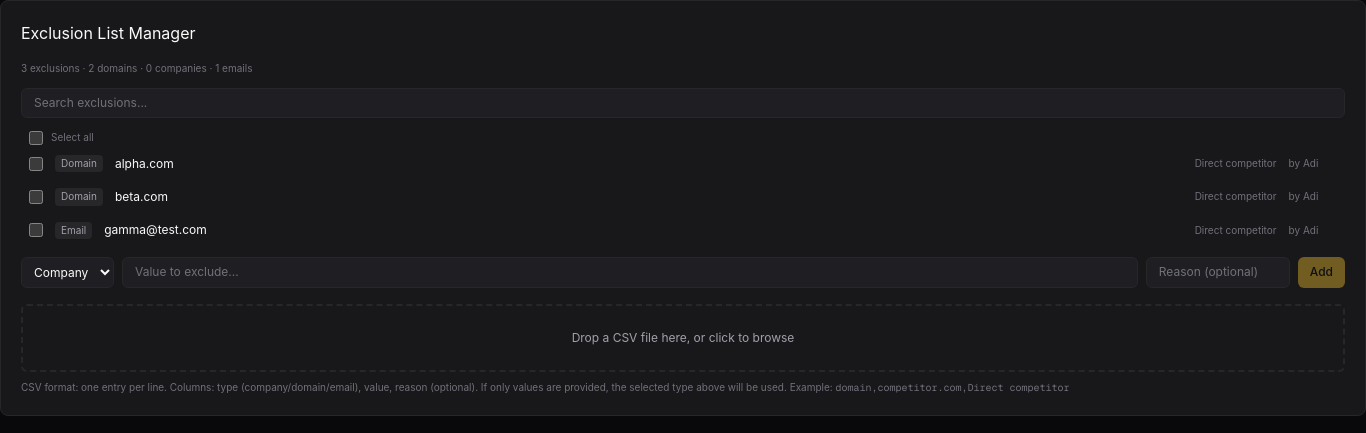
Test: ExclusionManagerSection › filters exclusions by search input
Expected: the text "alpha.com" is shown, x1=115 y1=156 x2=174 y2=171
Expected: the text "beta.com" is shown, x1=115 y1=189 x2=168 y2=204
Note: Type in search
Step 1. Type "alpha" into the field with placeholder "Search exclusions..." → (683, 103), box x1=21 y1=88 x2=1345 y2=118
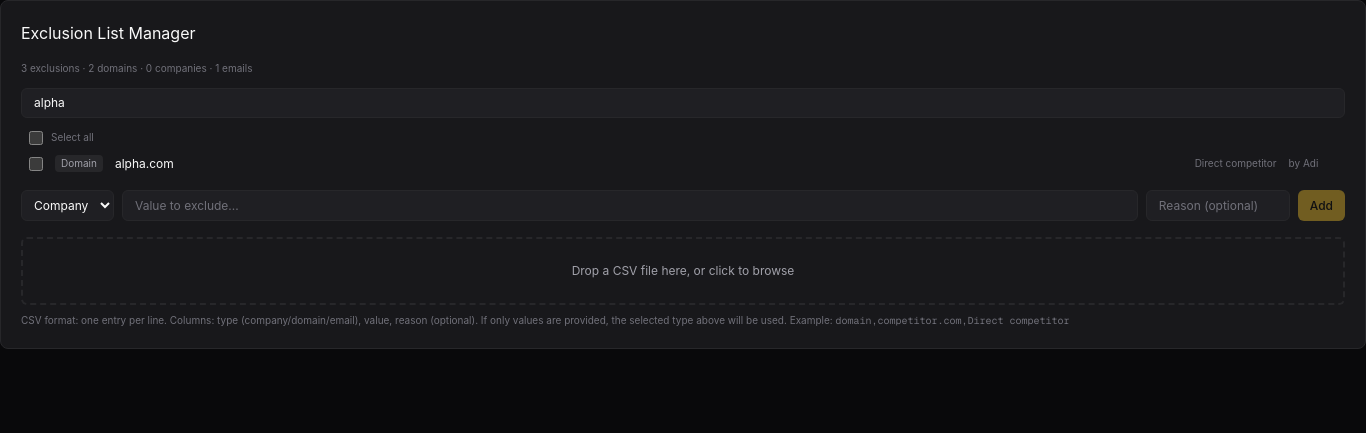
Expected: the text "alpha.com" is shown, x1=115 y1=156 x2=174 y2=171
Expected: the text "beta.com" is gone
Expected: the text "gamma@test.com" is gone
